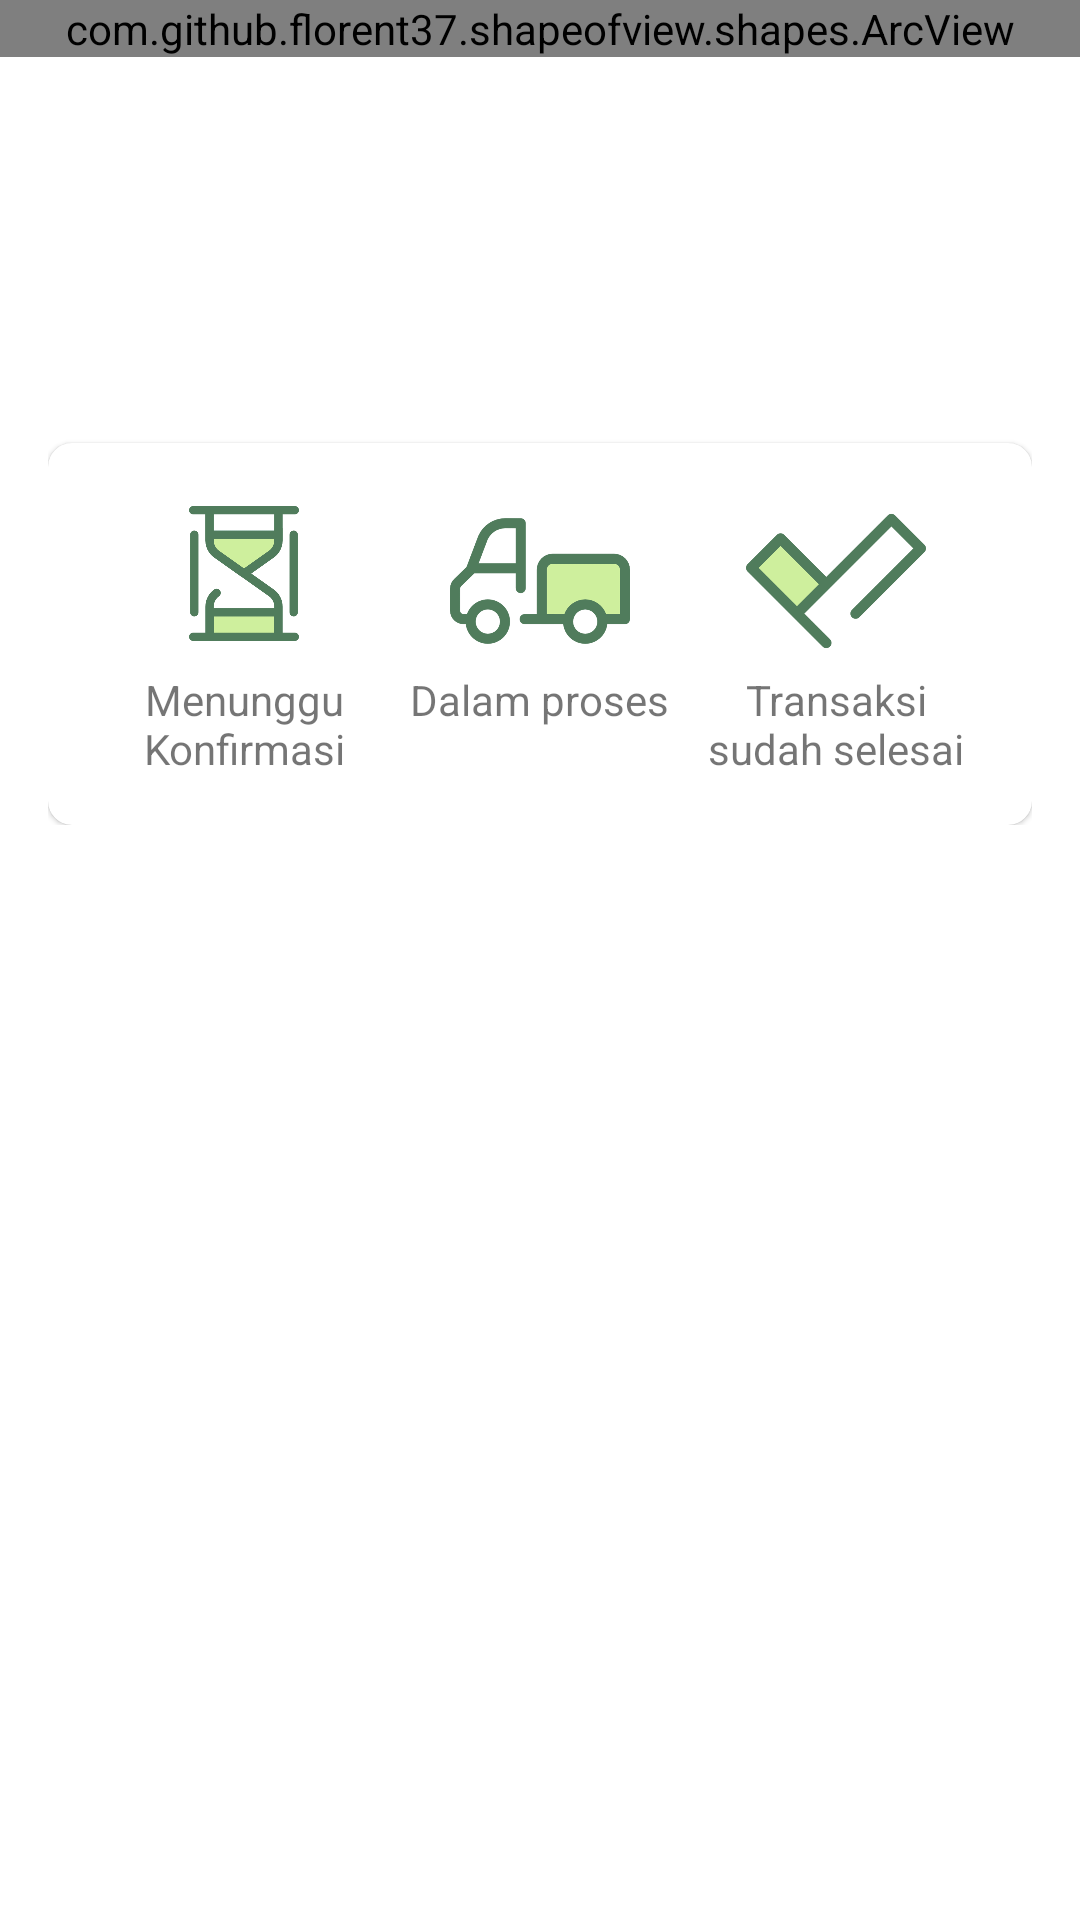

Icons on this 1080w x 1920h Android screen, each with its box as (x1, y1, x2, y2):
check: (746, 514, 926, 648)
hourglass: (189, 506, 299, 641)
truck: (450, 518, 630, 644)
